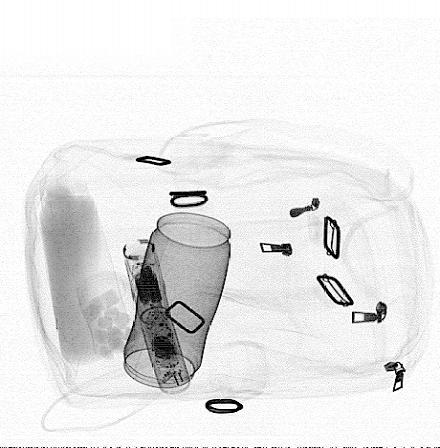Baton: (121, 237, 193, 397)
